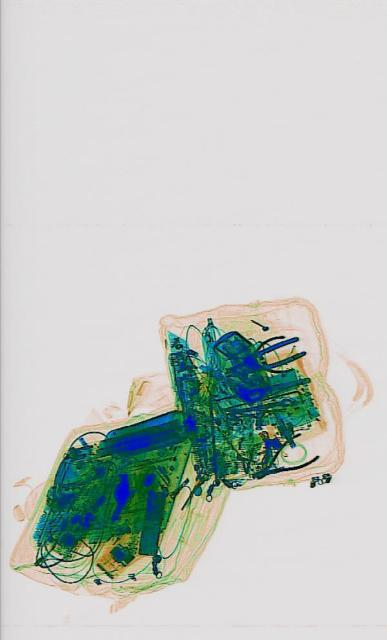Pliers: (249, 424, 317, 494), (220, 329, 305, 383), (229, 329, 291, 389)
Wrench: (231, 394, 289, 416)
